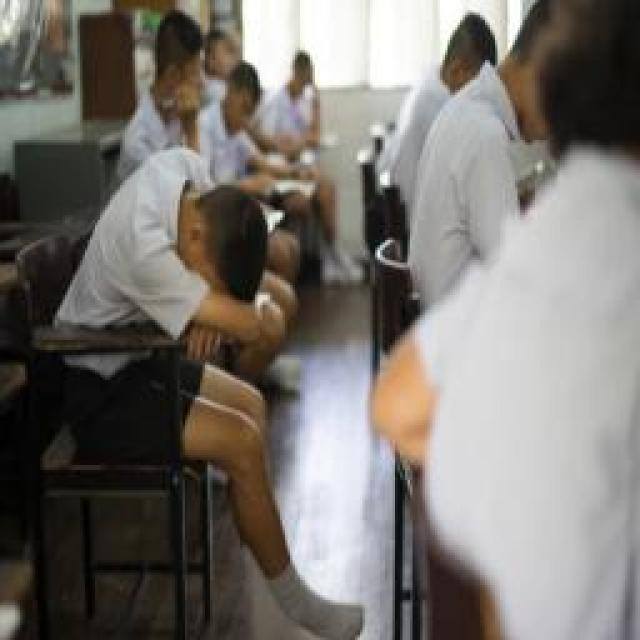sleep: (47, 145, 285, 320)
